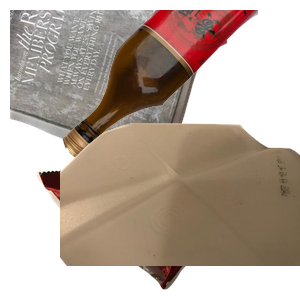glass: (60, 10, 300, 163)
paper: (10, 10, 222, 176)
plastic: (60, 120, 300, 300)
trash: (34, 136, 253, 300)
